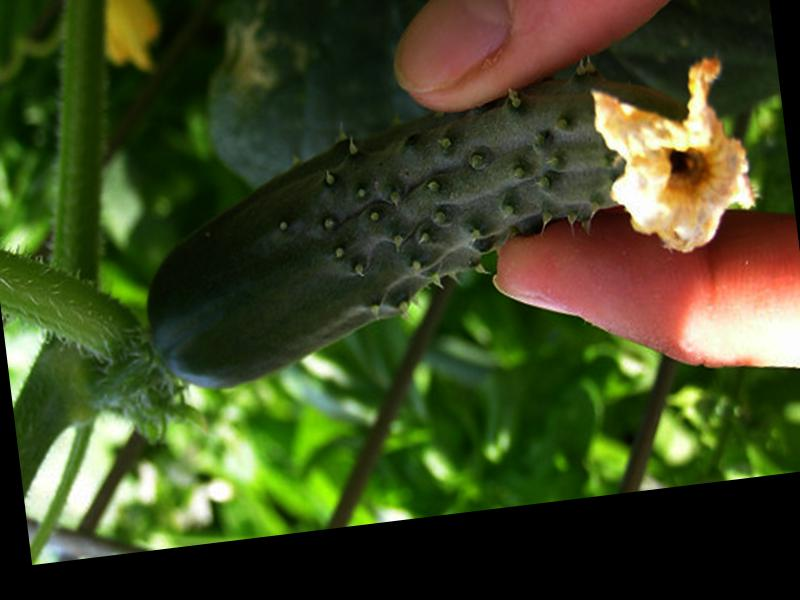Cucumber: (122, 54, 768, 393)
